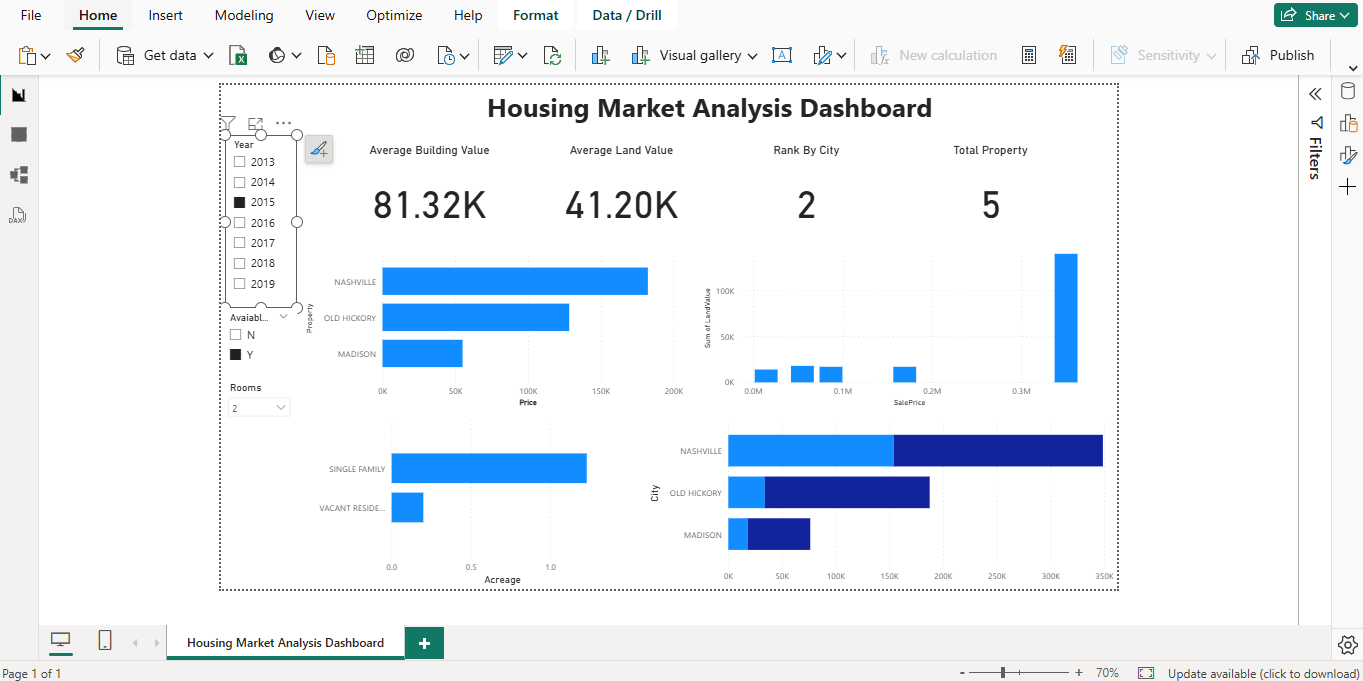

This screenshot's page, from the dashboard's own definition file:
{"tool":"powerbi","page":{"name":"Housing Market Analysis Dashboard","canvas":[1280,720],"ordinal":0},"visuals":[{"type":"card","title":"Average Building Value","fields":{"Values":["Measure.Average Builder Value"]},"box":[164.3,82.9,267.1,144.3],"z":0},{"type":"textbox","box":[3.3,5,110,715],"z":1000},{"type":"textbox","box":[115,0,1165,71.7],"z":2000},{"type":"card","title":"Average Land Value","fields":{"Values":["Measure.Average Land Value"]},"box":[447.1,82.9,250,144.3],"z":3000},{"type":"card","title":"Rank By City","fields":{"Values":["Measure.Price Rank by City"]},"box":[722.9,82.9,227.1,144.3],"z":4000},{"type":"card","title":"Total Property","fields":{"Values":["Measure.Total Properties"]},"box":[968.6,82.9,261.4,144.3],"z":5000},{"type":"clusteredBarChart","fields":{"Category":["Housing.PropertySpilitCity"],"Y":["Measure.AveragePrice"]},"box":[115,226.7,550,236.7],"z":6000},{"type":"columnChart","fields":{"Category":["Housing.SalePrice"],"Y":["Sum(Housing.LandValue)"]},"box":[685,226.7,545,236.7],"z":7000},{"type":"clusteredBarChart","fields":{"Category":["Housing.LandUse"],"Y":["Sum(Housing.Acreage)"]},"box":[115,463.3,458.3,256.7],"z":8000},{"type":"barChart","fields":{"Category":["Housing.OwnerSpilitCity"],"Y":["Sum(Housing.LandValue)","Sum(Housing.BuildingValue)"]},"box":[605,463.3,675,256.7],"z":8001},{"type":"slicer","fields":{"Values":["Housing.SalesDate.Variation.Date Hierarchy.Year"]},"box":[5.7,71.4,102.9,247.1],"z":8002},{"type":"slicer","fields":{"Values":["Housing.SoldAsVacant"]},"box":[0,318.6,108.6,100],"z":8003},{"type":"slicer","fields":{"Values":["Housing.Bedrooms"]},"box":[0,418.6,108.6,94.3],"z":8004}]}

Visuals, with their boxes on the page's 1280x720 design canvas (x1, y1, x2, y2). These are canvas units, not pixel positions in the 1363x681 screenshot, which may show the page scaled, cropped or inside an application window:
"Average Building Value" card: [164, 83, 431, 227]
textbox: [3, 5, 113, 720]
textbox: [115, 0, 1280, 72]
"Average Land Value" card: [447, 83, 697, 227]
"Rank By City" card: [723, 83, 950, 227]
"Total Property" card: [969, 83, 1230, 227]
clusteredBarChart - Housing.PropertySpilitCity x Measure.AveragePrice: [115, 227, 665, 463]
columnChart - Housing.SalePrice x Sum(Housing.LandValue): [685, 227, 1230, 463]
clusteredBarChart - Housing.LandUse x Sum(Housing.Acreage): [115, 463, 573, 720]
barChart - Housing.OwnerSpilitCity x Sum(Housing.LandValue): [605, 463, 1280, 720]
slicer - Housing.SalesDate.Variation.Date Hierarchy.Year: [6, 71, 109, 318]
slicer - Housing.SoldAsVacant: [0, 319, 109, 419]
slicer - Housing.Bedrooms: [0, 419, 109, 513]
